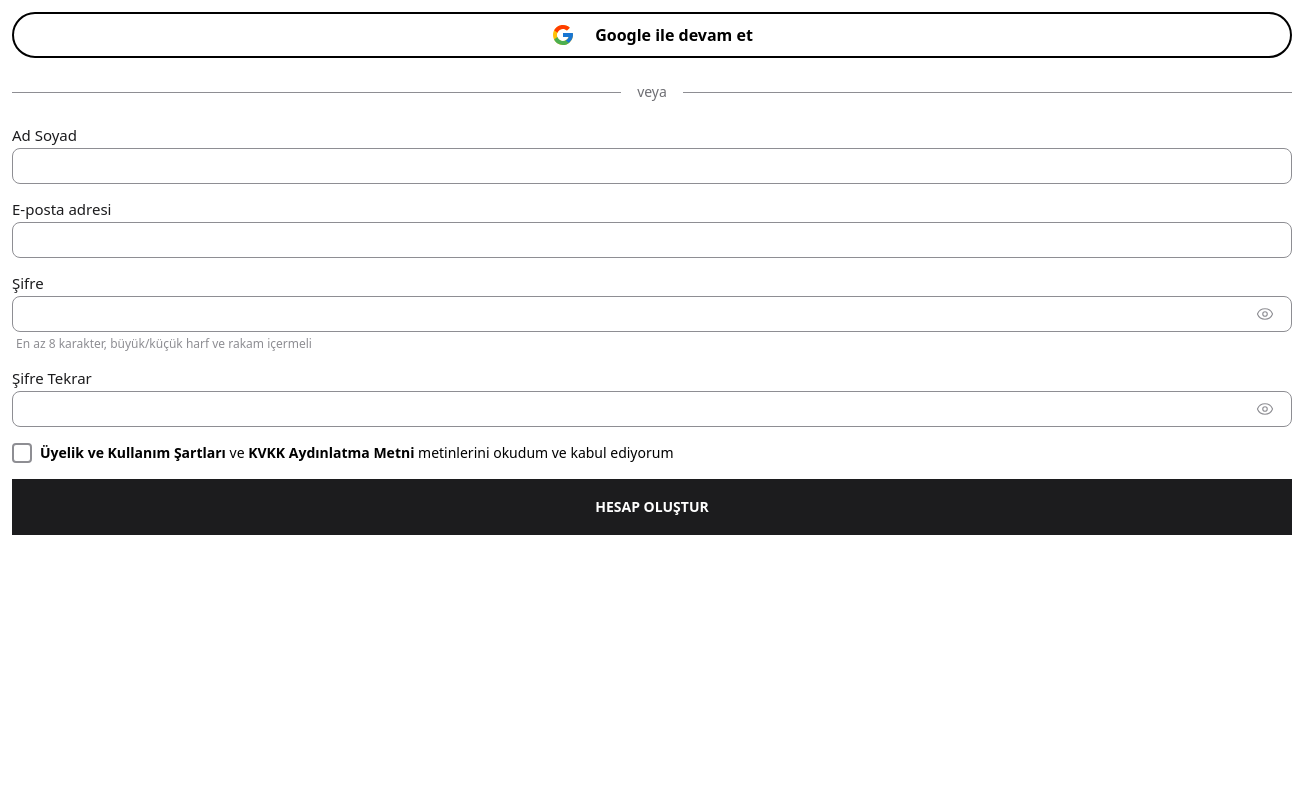
SignUpForm › boş formda zorunluluk hataları gösterilir
The width and height of the screenshot is (1304, 812).
Click the button "Hesap Oluştur" at (652, 507), box [12, 479, 1292, 535]
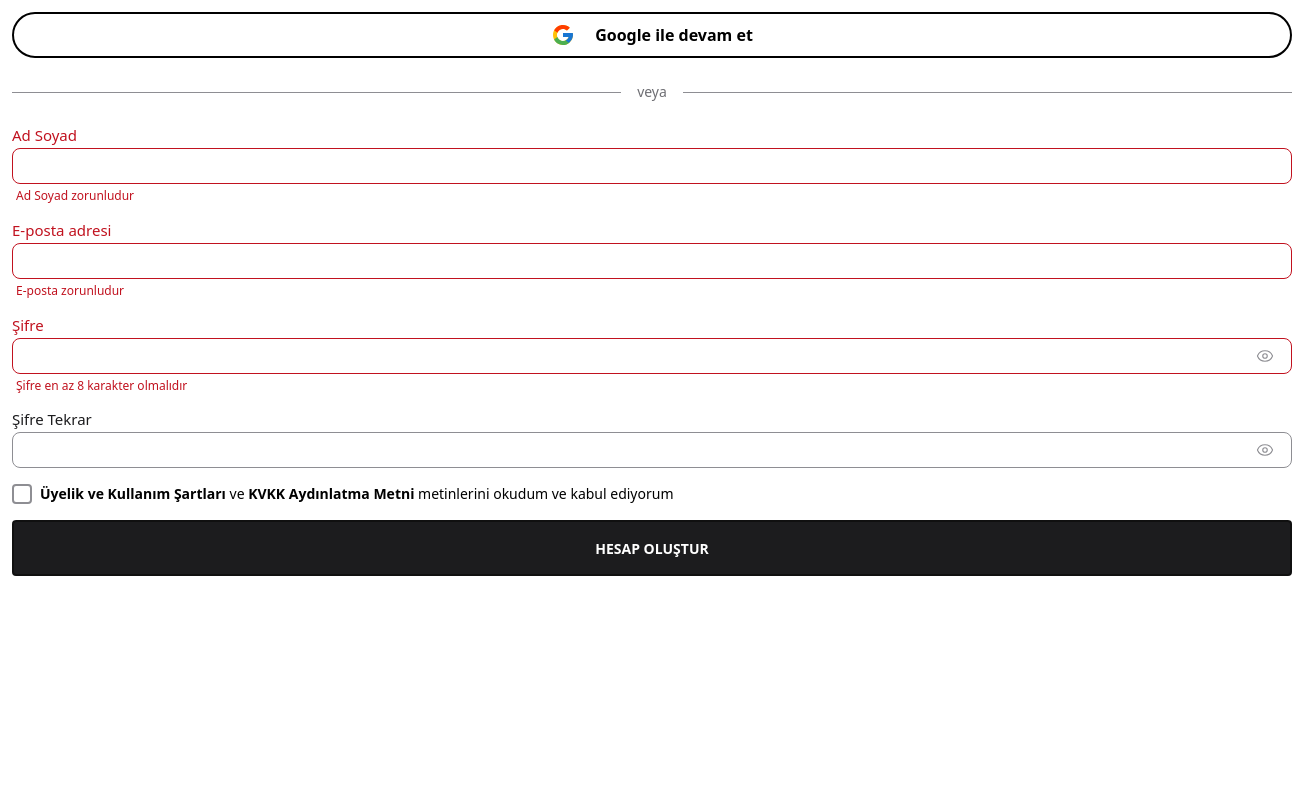
Expected: the text "Ad Soyad zorunludur" is shown, [16, 187, 134, 204]
Expected: the text "E-posta zorunludur" is shown, [16, 282, 124, 299]
